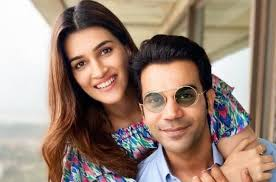Bad: (43, 1, 276, 182)
